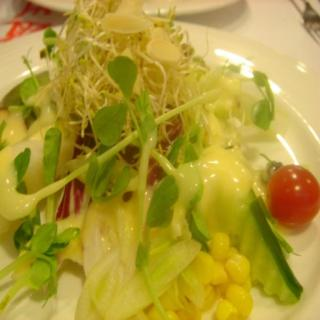tomato: (268, 163, 320, 225)
